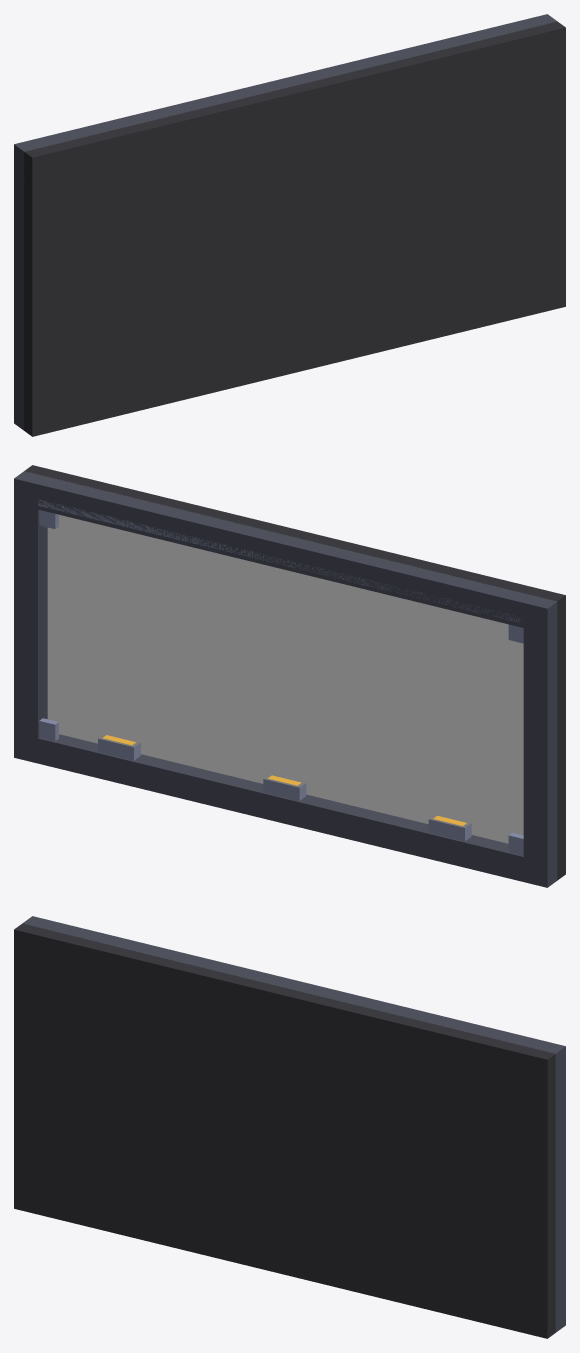
The model's file is panneau-mural.glb.
The picture shows the model from 3 angles, top to bottom: view 1: azimuth 30°, elevation 25°; view 2: azimuth 150°, elevation 25°; view 3: azimuth 330°, elevation 25°; orthographic projection.
Parts seen in each view (by area): view 1: panneau-mural; view 2: panneau-mural; view 3: panneau-mural.
Boxes of the visible parts, left/top/right/bottom form: panneau-mural: left=14, top=14, right=565, bottom=436; panneau-mural: left=14, top=465, right=565, bottom=887; panneau-mural: left=14, top=916, right=565, bottom=1338.
Bounding box in the file's own units: 10 × 5 × 0.6.
2 materials, 2 textured.
